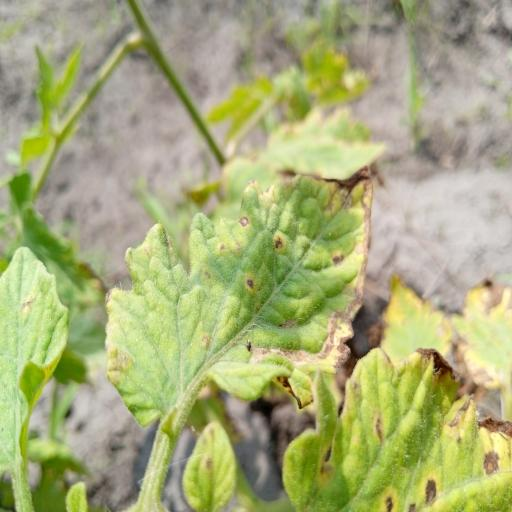Tomato_Brown_Spots: (102, 163, 386, 430), (280, 341, 512, 512)
